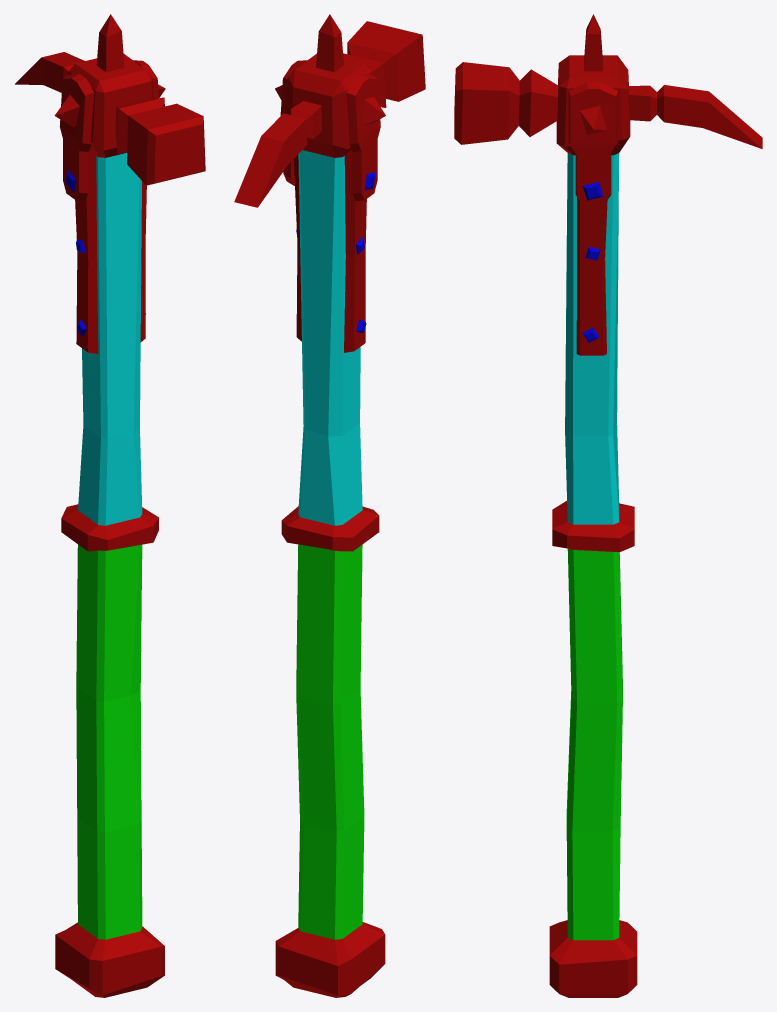
The model's file is Mace_Common_Warhammer.fbx.
3 renders of one model, left to right at view 1: azimuth 30°, elevation 25°; view 2: azimuth 150°, elevation 25°; view 3: azimuth 270°, elevation 25°, orthographic.
Visible parts, largest first — view 1: SM_Wep_Hammer_02; view 2: SM_Wep_Hammer_02; view 3: SM_Wep_Hammer_02.
Boxes of the visible parts, bbox=[...] form: SM_Wep_Hammer_02: bbox=[15, 14, 205, 997]; SM_Wep_Hammer_02: bbox=[234, 14, 425, 997]; SM_Wep_Hammer_02: bbox=[454, 14, 762, 997].
Size of the model in its own units: 9.46 by 78.47 by 22.6.
